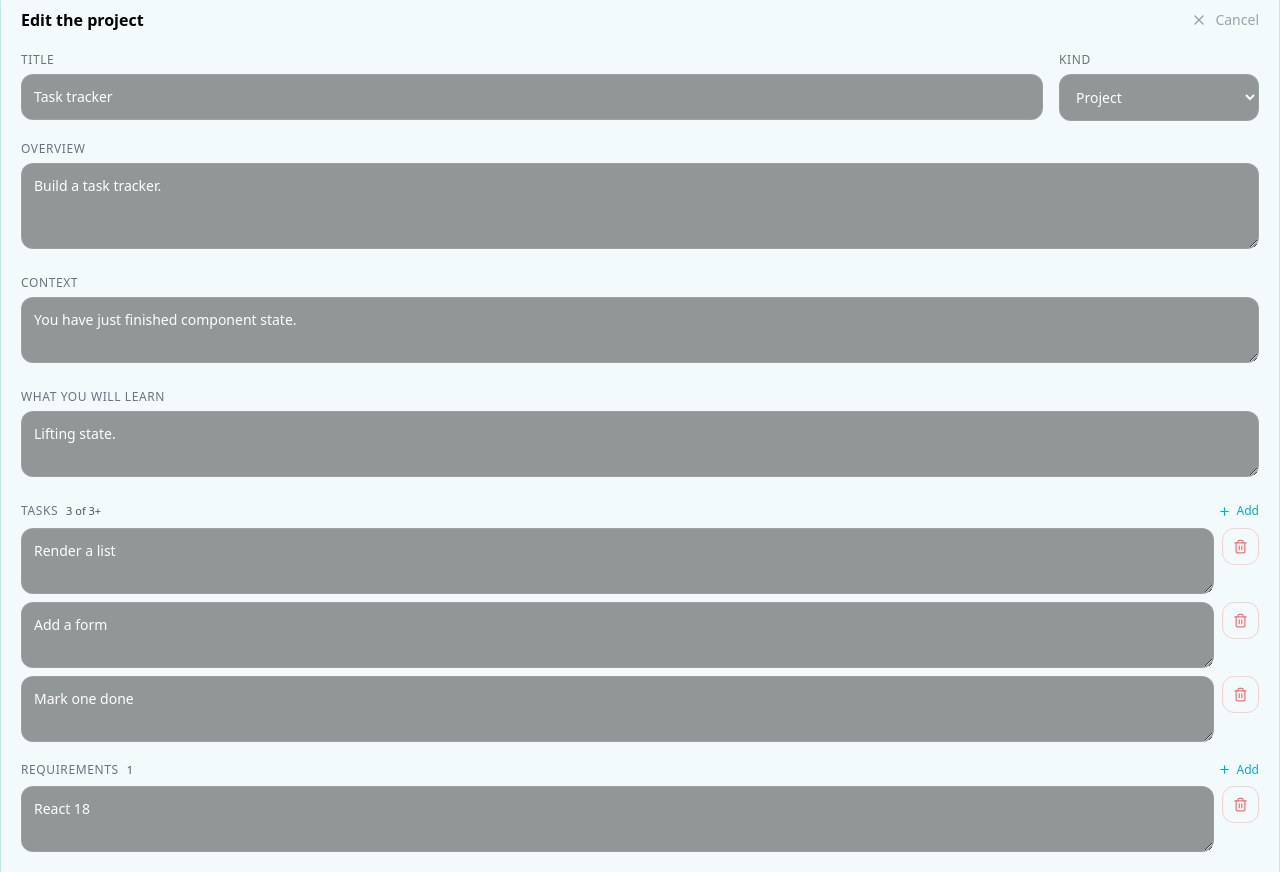
Scenario: dropping a task below three disables Save
Click the button named "Remove Tasks line 1".
click(1240, 546)  # box [1222,528,1259,564]
(page scrolled)
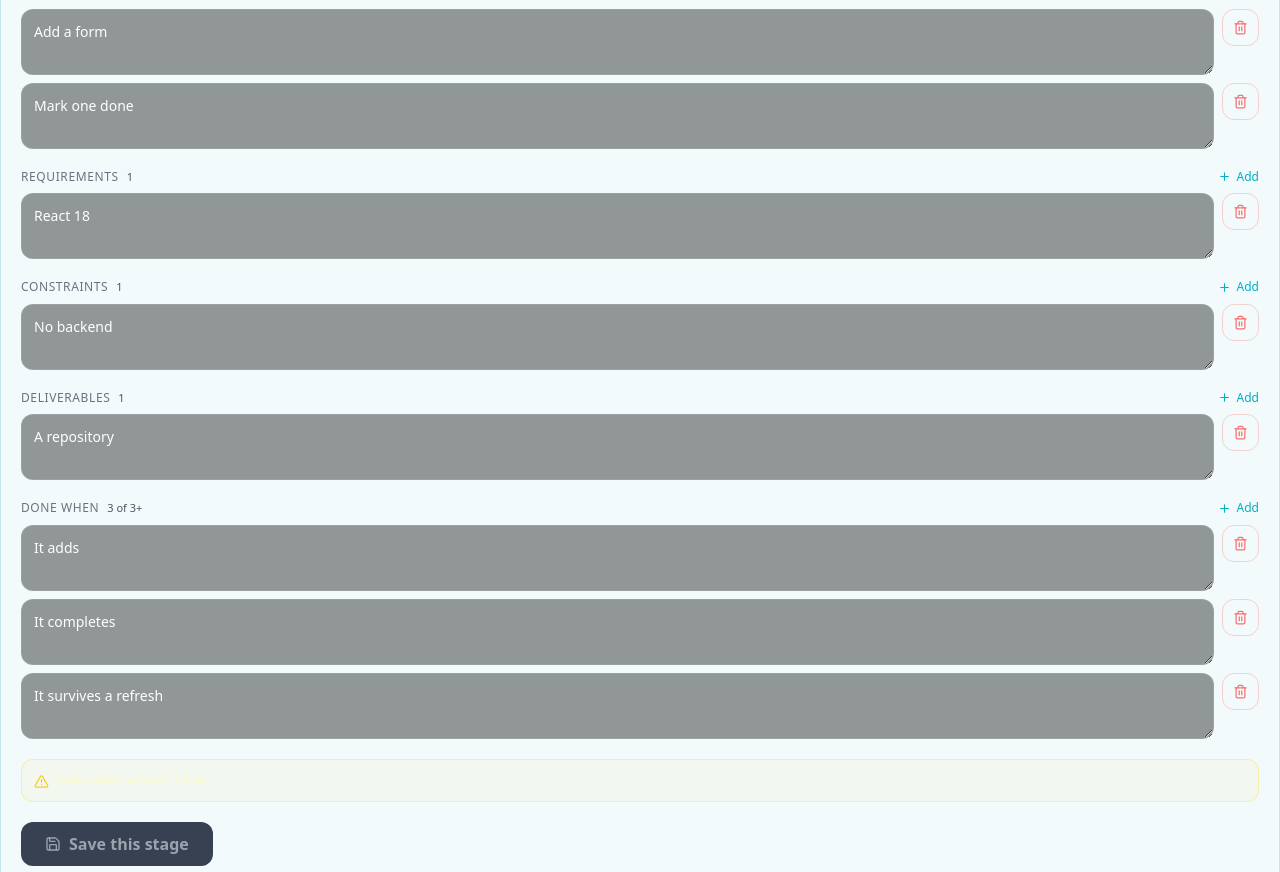
Now the list item "Tasks needs at least 3 lines." is shown, box [57,772,211,788]
Now the button "Save this stage" is disabled, box [21,822,213,866]
